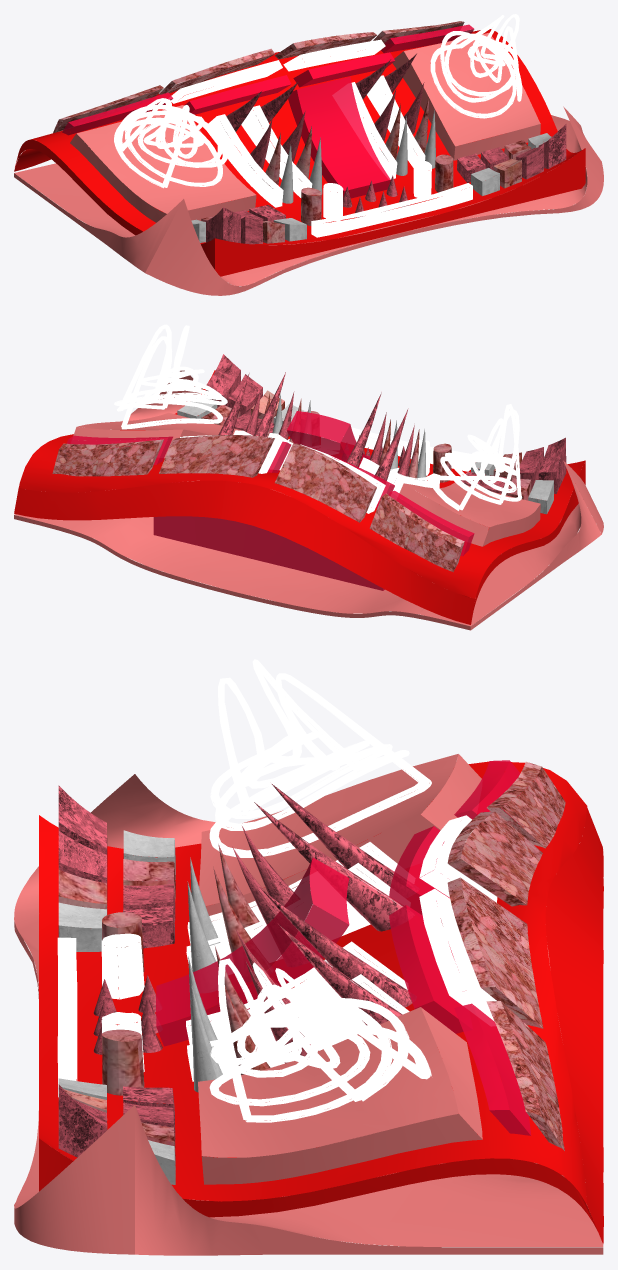
File: dj2_RED-v43.glb
3 views of the same model, one above another, from view 1: azimuth 30°, elevation 25°; view 2: azimuth 150°, elevation 25°; view 3: azimuth 270°, elevation 25° (orthographic). The views are drawn at different scales.
Parts seen in each view (by area): view 1: DJSET_2-REDUCED, base2, slider, donen dalga, ekran2, tus2, tsu4; view 2: DJSET_2-REDUCED, base2, ekran2, donen dalga, tus2, slider, tsu4; view 3: DJSET_2-REDUCED, base2, donen dalga, ekran2, slider, tsu4, tus2.
Part boxes in pixels (x1,y1,x2,y2): DJSET_2-REDUCED: (14,24,585,276); base2: (14,33,603,295); slider: (170,39,472,237); donen dalga: (114,14,522,188); ekran2: (53,21,464,132); tus2: (234,82,543,244); tsu4: (191,109,551,242); DJSET_2-REDUCED: (14,354,585,624); base2: (14,370,603,630); ekran2: (52,435,464,572); donen dalga: (114,324,522,510); tus2: (228,374,543,493); slider: (180,417,471,513); tsu4: (177,394,553,514); DJSET_2-REDUCED: (39,760,603,1243); base2: (14,754,603,1255); donen dalga: (209,659,431,1122); ekran2: (447,761,565,1150); slider: (57,815,497,1097); tsu4: (58,830,222,1184); tus2: (58,826,318,1144).
Size of the model in its own units: 1.2 by 0.4006 by 0.7509.
Materials: 11 (5 with a texture image).
